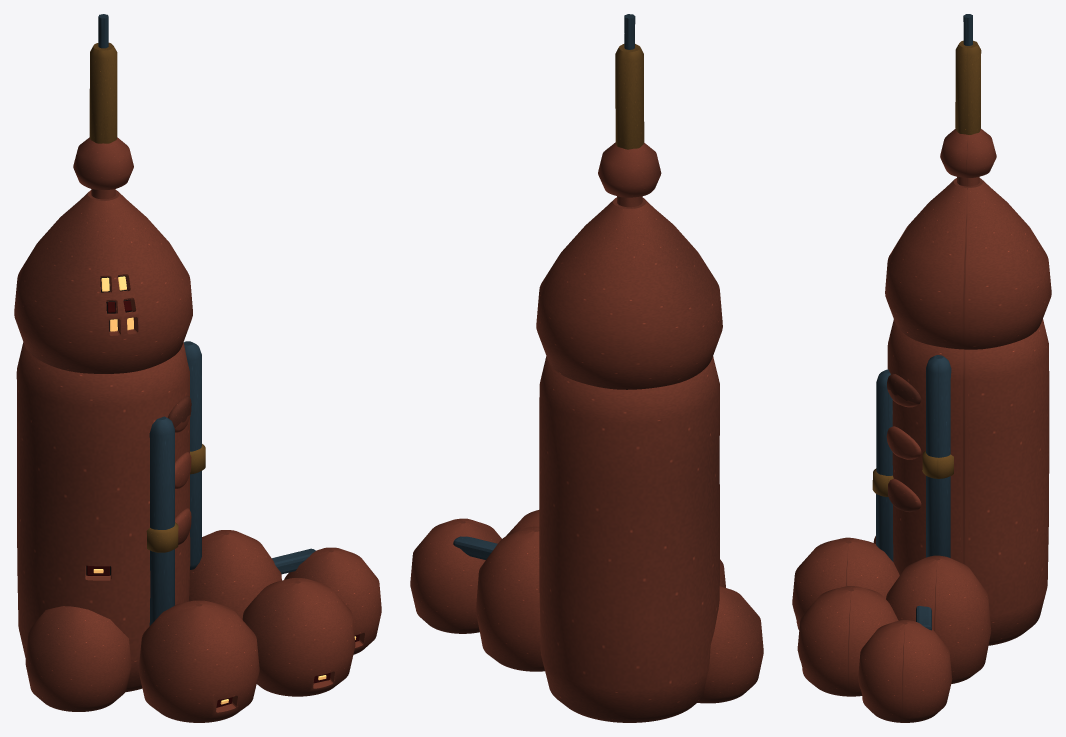
3 views of the same model, side by side, from view 1: azimuth 30°, elevation 25°; view 2: azimuth 150°, elevation 25°; view 3: azimuth 270°, elevation 25° (orthographic). The views are drawn at different scales.
Visible parts, largest first — view 1: AC22 tall grounded lower chamber, AC22 compact upper shoulder chamber, AC22 grounded small chamber 1, AC22 grounded small chamber 3, AC22 grounded small chamber 0, AC22 grounded small chamber 2, AC22 grounded small chamber 4, AC22 slate vertical fitting 0, AC22 tall ochre sleeve, AC22 small coral top cap, AC22 slate vertical fitting 1, AC22 ochre middle coupling 0 (+1 smaller); view 2: AC22 tall grounded lower chamber, AC22 compact upper shoulder chamber, AC22 grounded small chamber 2, AC22 grounded small chamber 4, AC22 grounded small chamber 0, AC22 tall ochre sleeve, AC22 small coral top cap, AC22 supported right slate connector; view 3: AC22 tall grounded lower chamber, AC22 compact upper shoulder chamber, AC22 grounded small chamber 4, AC22 grounded small chamber 2, AC22 grounded small chamber 3, AC22 grounded small chamber 1, AC22 slate vertical fitting 1, AC22 slate vertical fitting 0, AC22 tall ochre sleeve, AC22 small coral top cap, AC22 lower cast relief 1, AC22 lower cast relief 2 (+2 smaller).
Boxes of the visible parts, <box> form: AC22 tall grounded lower chamber: <box>16,342,190,692</box>; AC22 compact upper shoulder chamber: <box>14,190,192,373</box>; AC22 grounded small chamber 1: <box>138,600,259,722</box>; AC22 grounded small chamber 3: <box>242,578,355,696</box>; AC22 grounded small chamber 0: <box>25,606,131,711</box>; AC22 grounded small chamber 2: <box>189,530,281,619</box>; AC22 grounded small chamber 4: <box>284,547,381,654</box>; AC22 slate vertical fitting 0: <box>149,416,174,625</box>; AC22 tall ochre sleeve: <box>89,42,117,143</box>; AC22 small coral top cap: <box>73,137,133,189</box>; AC22 slate vertical fitting 1: <box>183,341,201,569</box>; AC22 ochre middle coupling 0: <box>146,522,178,552</box>; AC22 tall grounded lower chamber: <box>539,356,719,722</box>; AC22 compact upper shoulder chamber: <box>536,197,722,389</box>; AC22 grounded small chamber 2: <box>476,526,544,671</box>; AC22 grounded small chamber 4: <box>410,518,501,633</box>; AC22 grounded small chamber 0: <box>697,586,763,703</box>; AC22 tall ochre sleeve: <box>615,44,644,149</box>; AC22 small coral top cap: <box>598,142,661,197</box>; AC22 supported right slate connector: <box>453,536,497,559</box>; AC22 tall grounded lower chamber: <box>887,319,1049,645</box>; AC22 compact upper shoulder chamber: <box>885,178,1051,349</box>; AC22 grounded small chamber 4: <box>858,620,952,722</box>; AC22 grounded small chamber 2: <box>886,555,991,683</box>; AC22 grounded small chamber 3: <box>797,586,898,696</box>; AC22 grounded small chamber 1: <box>792,537,899,630</box>; AC22 slate vertical fitting 1: <box>926,355,951,557</box>; AC22 slate vertical fitting 0: <box>876,369,893,561</box>; AC22 tall ochre sleeve: <box>955,40,981,134</box>; AC22 small coral top cap: <box>940,129,996,177</box>; AC22 lower cast relief 1: <box>886,426,921,459</box>; AC22 lower cast relief 2: <box>887,374,921,407</box>.
Size of the model in its own units: 2.67 by 4.96 by 1.93.
Materials: 6 (5 with a texture image).
